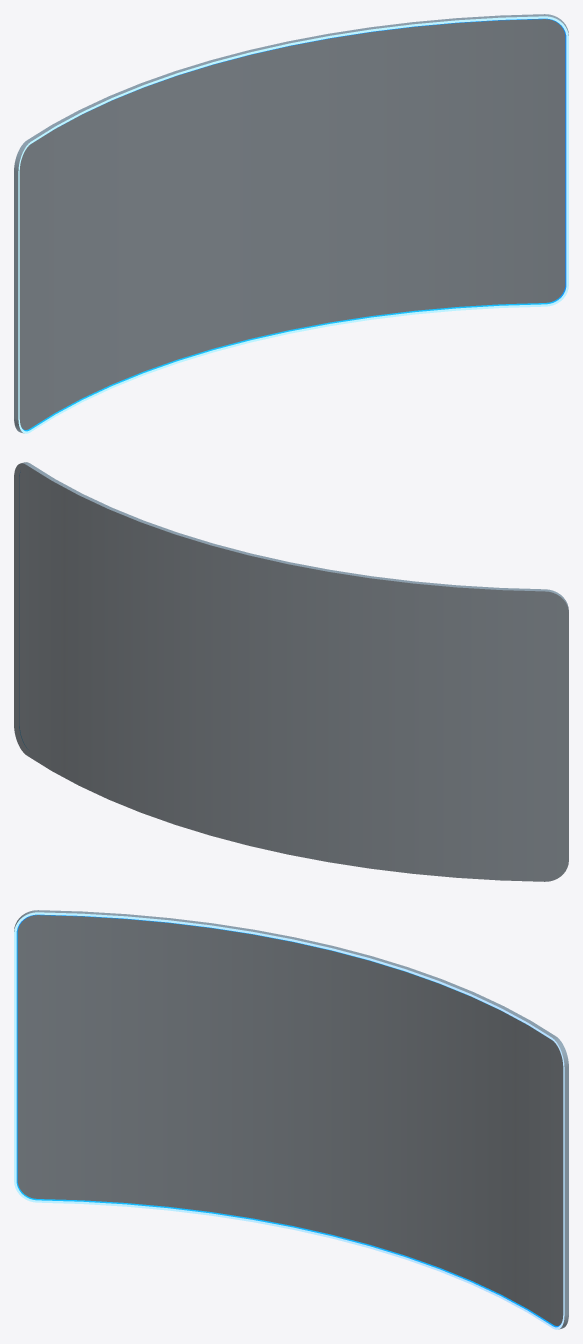
Rendered from ekran.glb.
3 renders of one model, top to bottom at view 1: azimuth 30°, elevation 25°; view 2: azimuth 150°, elevation 25°; view 3: azimuth 330°, elevation 25°, orthographic.
Visible parts, largest first — view 1: glass-and-rim, line-core, line-edge; view 2: glass-and-rim; view 3: glass-and-rim, line-core, line-edge.
Boxes of the visible parts, bbox=[...] form: glass-and-rim: bbox=[14, 14, 568, 433]; line-core: bbox=[18, 16, 568, 433]; line-edge: bbox=[22, 18, 566, 431]; glass-and-rim: bbox=[14, 462, 568, 881]; glass-and-rim: bbox=[14, 910, 568, 1329]; line-core: bbox=[14, 912, 564, 1329]; line-edge: bbox=[16, 914, 560, 1327].
Bounding box in the file's own units: 0.8 × 0.4 × 0.1127.
